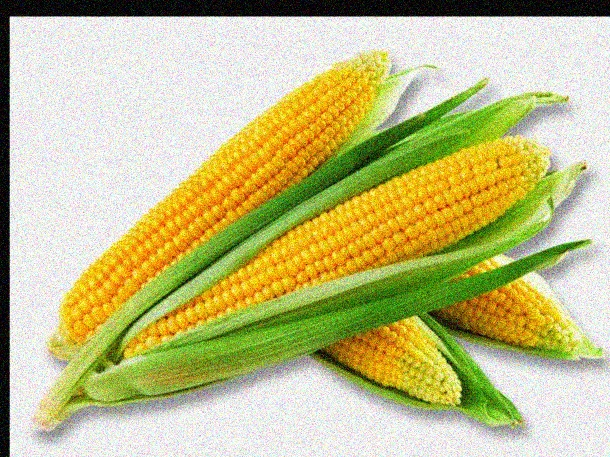corn: (52, 53, 391, 348), (121, 133, 547, 360)
